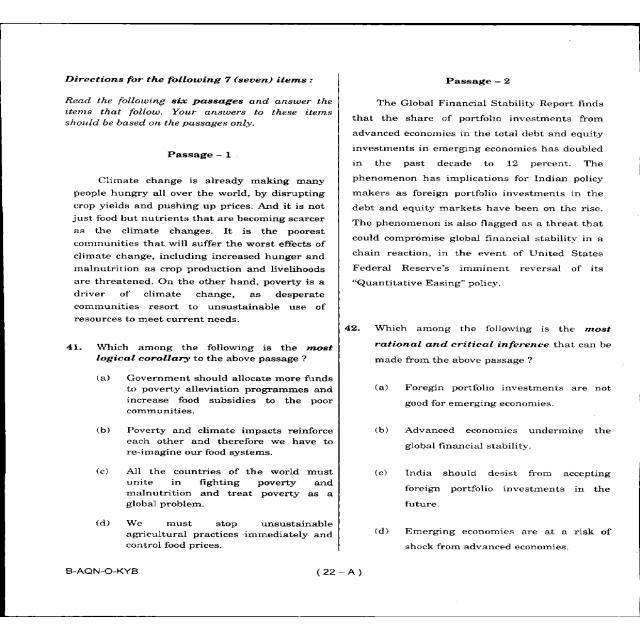Answer_Block: (12, 367, 332, 554), (343, 376, 633, 556)
Instruction: (12, 42, 336, 326), (338, 42, 640, 306)
Question_Answer_Block: (12, 329, 332, 595), (343, 314, 633, 556)
Question_Block: (343, 314, 633, 376), (12, 330, 332, 366)
Question_Paper_Area: (12, 42, 336, 595), (338, 42, 640, 595)
